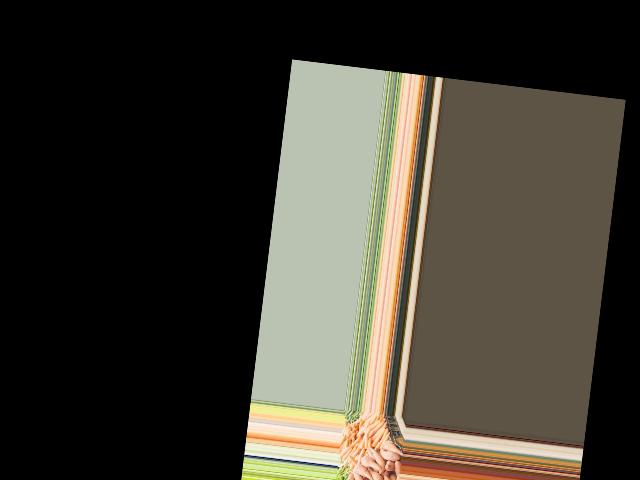carrot: (372, 426, 385, 449)
